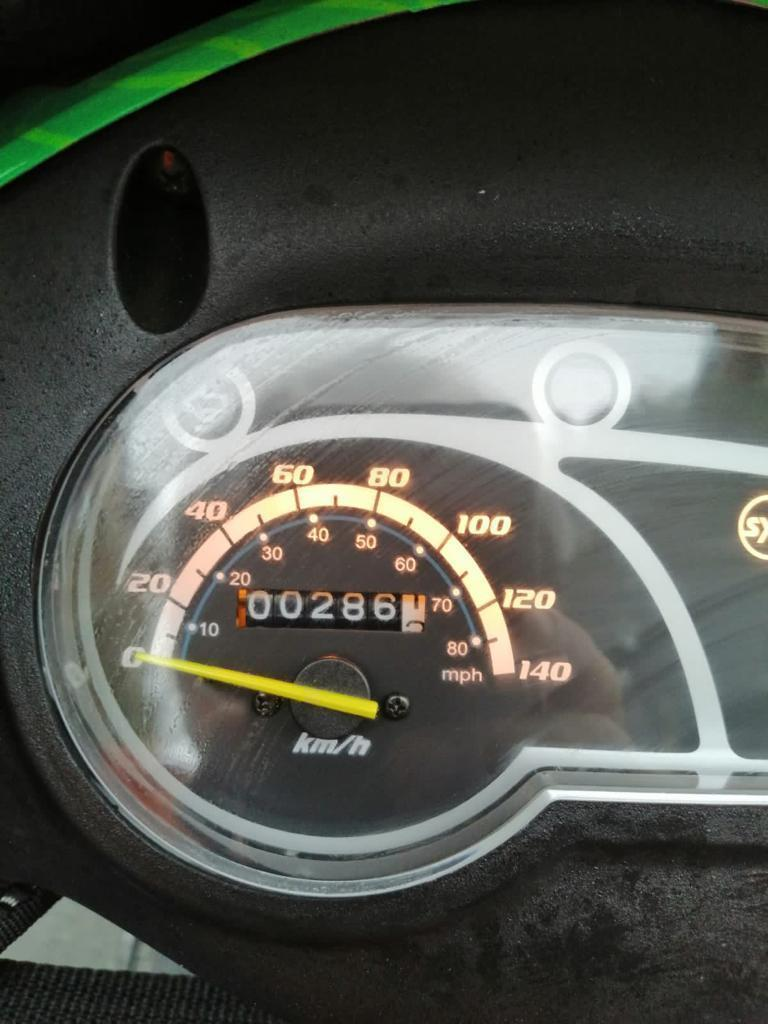0: (277, 589, 303, 620), (246, 588, 271, 620)
1: (406, 592, 425, 610)
2: (308, 591, 335, 619)
6: (372, 592, 397, 621)
8: (340, 591, 365, 622)
odometer: (231, 584, 431, 636)
